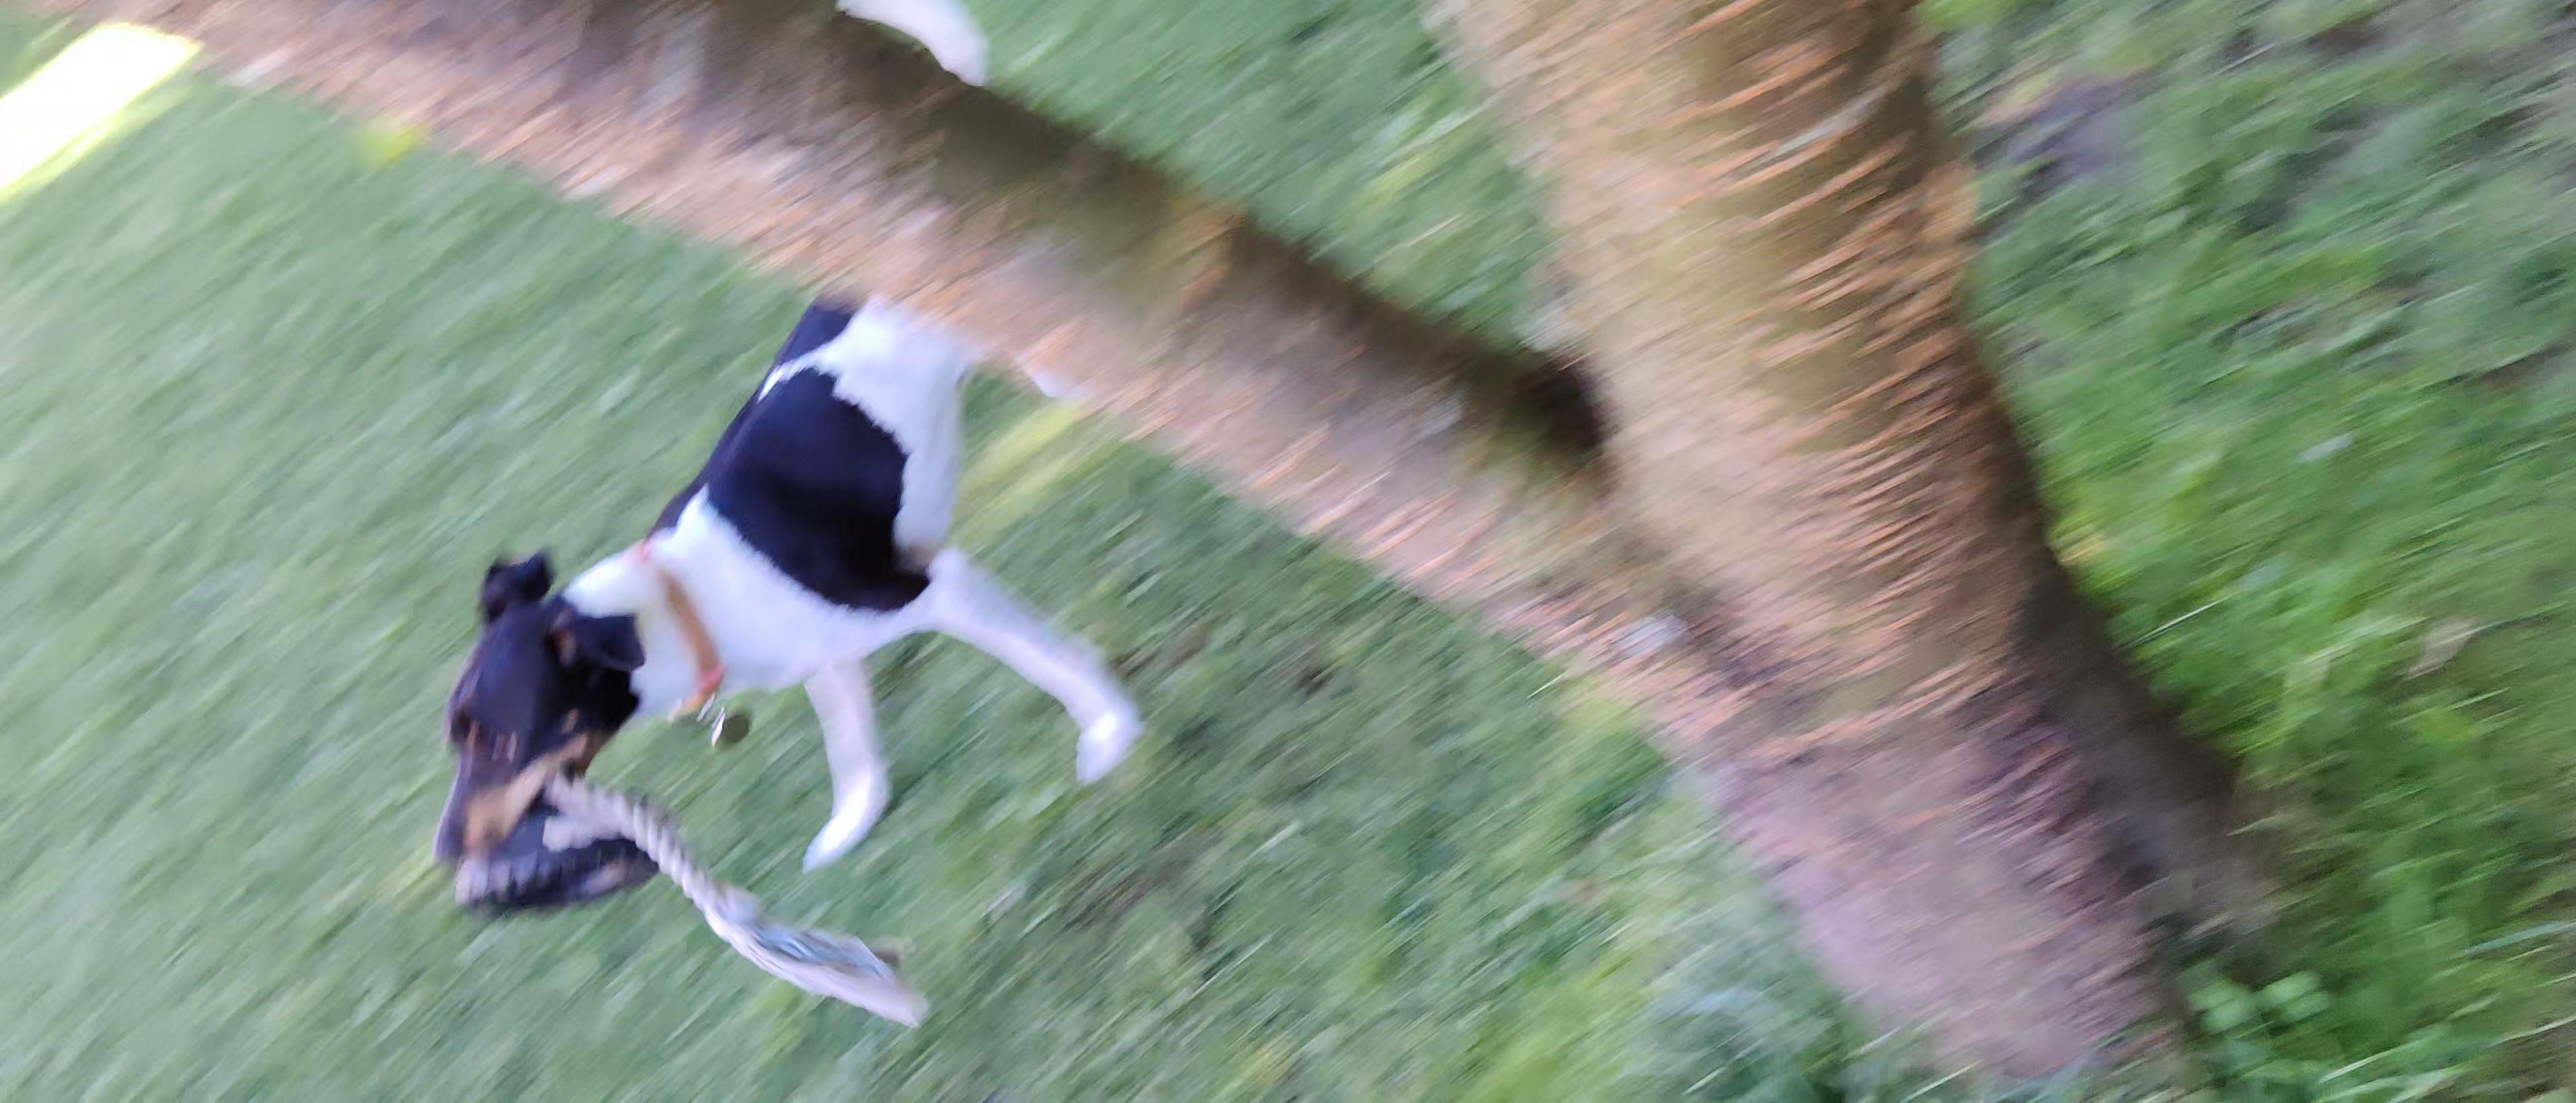Dog: (419, 0, 1160, 878)
